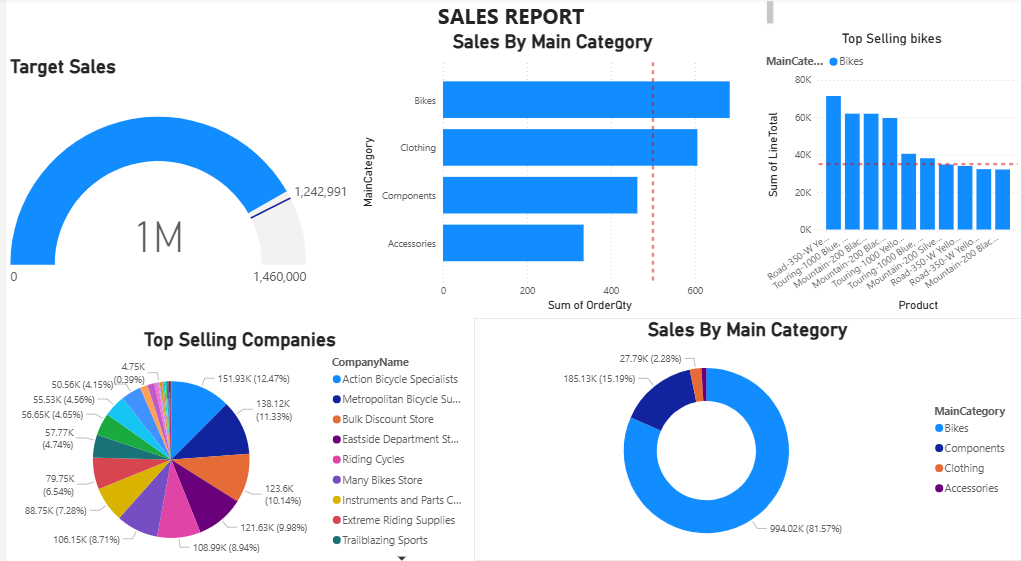

Layout of this report page (visuals, bound fields, positions):
{"tool":"powerbi","page":{"name":"Page 1","canvas":[1280,720],"ordinal":0},"visuals":[{"type":"gauge","title":" Target Sales","fields":{"Y":["Sum(Sales.LineTotal)"],"TargetValue":["Sales.TargetSales"]},"box":[0,73.7,440.3,343.9],"z":0},{"type":"pieChart","title":"Top Selling Companies","fields":{"Y":["Sum(Sales.LineTotal)"],"Category":["Customers.CompanyName"]},"box":[0,417.6,589.6,302.4],"z":1000},{"type":"clusteredBarChart","title":"Sales  By Main Category","fields":{"Category":["Sales.MainCategory"],"Y":["Sum(Sales.OrderQty)"]},"box":[442.2,41.6,493.2,359.1],"z":2000},{"type":"donutChart","title":"Sales  By Main Category","fields":{"Category":["Sales.MainCategory"],"Y":["Sum(Sales.LineTotal)"]},"box":[589.6,404.4,689.8,306.1],"z":3000},{"type":"clusteredColumnChart","title":"Top Selling bikes","fields":{"Category":["Sales.Product"],"Y":["Sum(Sales.LineTotal)"],"Series":["Sales.MainCategory"]},"box":[952.4,41.6,326.9,359.1],"z":4000},{"type":"textbox","box":[309.9,0,661.4,41.6],"z":5000}]}

Visuals, with their boxes in screenshot pixels (x1, y1, x2, y2), scaled from the page's 1280x720 canvas onto the 1021x561 screenshot:
" Target Sales" gauge: x1=0 y1=57 x2=351 y2=325
"Top Selling Companies" pieChart: x1=0 y1=325 x2=470 y2=560
"Sales  By Main Category" clusteredBarChart: x1=353 y1=32 x2=746 y2=312
"Sales  By Main Category" donutChart: x1=470 y1=315 x2=1020 y2=554
"Top Selling bikes" clusteredColumnChart: x1=760 y1=32 x2=1020 y2=312
textbox: x1=247 y1=0 x2=775 y2=32
